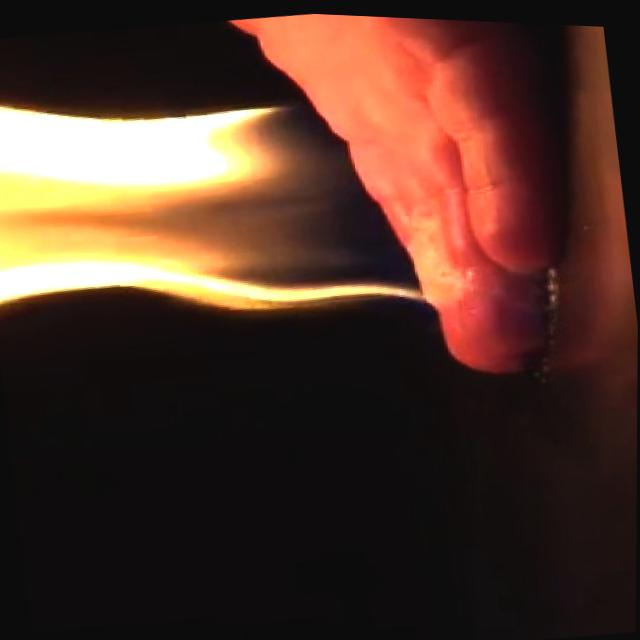helmet: (0, 35, 474, 362)
